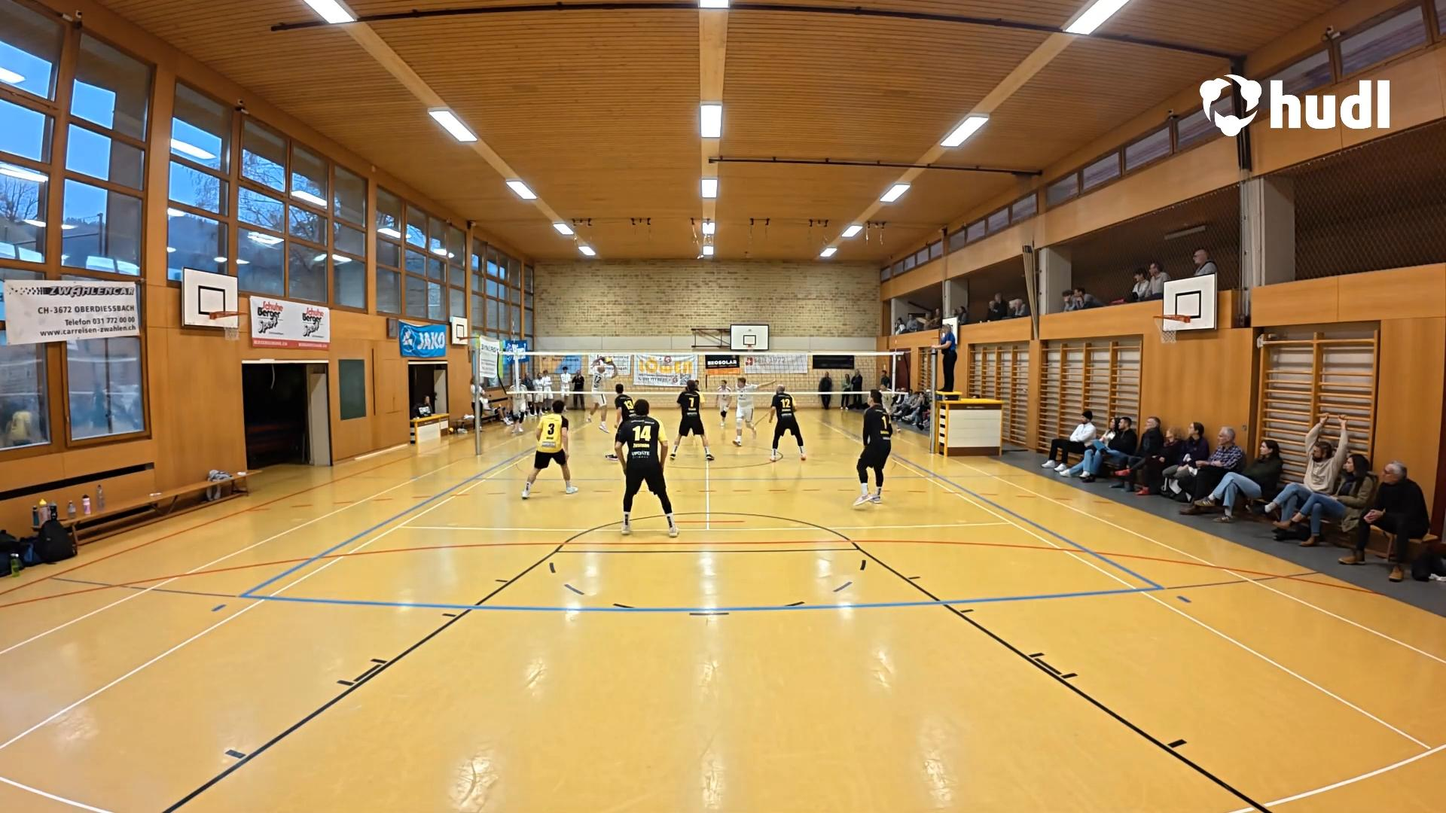alzata: (582, 351, 618, 432)
